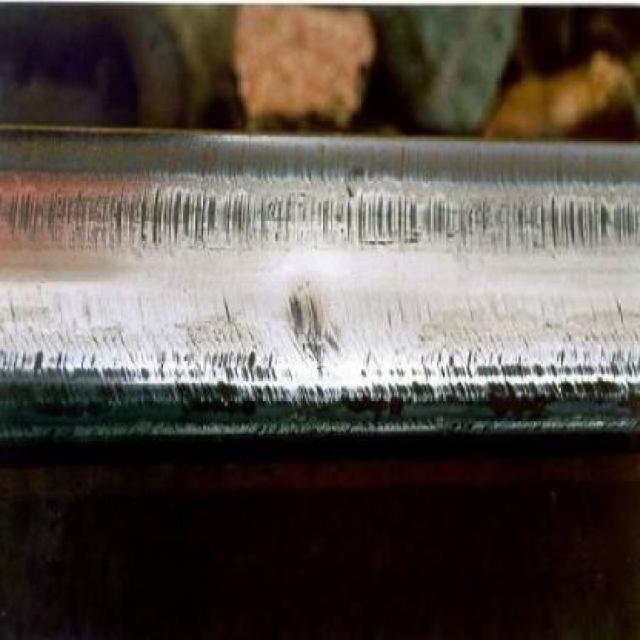defective: (10, 13, 640, 534)
